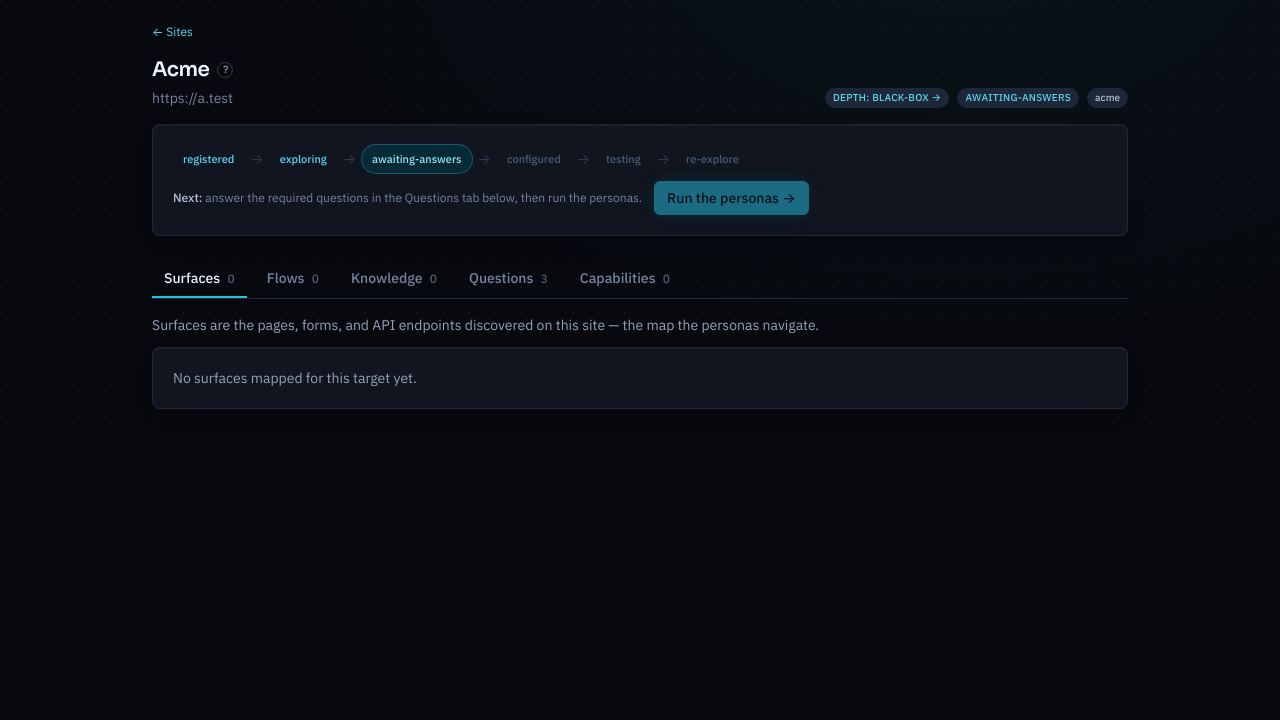
Scenario: <SiteTarget> capabilities › shows the depth pill + ladder and the catalog grouped by level
Check: the button with test id "depth-pill" shows "Black-box", box [825,88,949,108]
Click the button "Capabilities 0" at (625, 279), box [568,260,682,298]
(page scrolled)
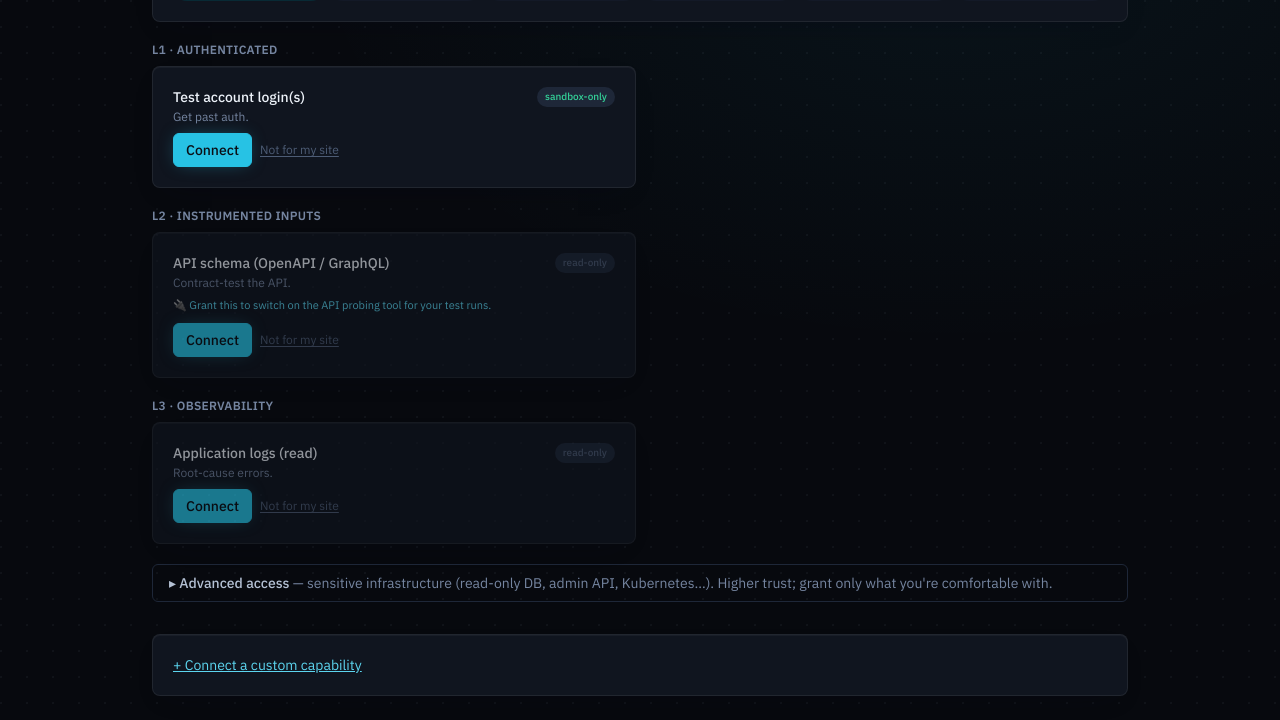
Check: the element with test id "cap-test-account" is shown, box [152,66,636,188]
Check: the element with test id "cap-app-logs" is shown, box [152,422,636,544]
